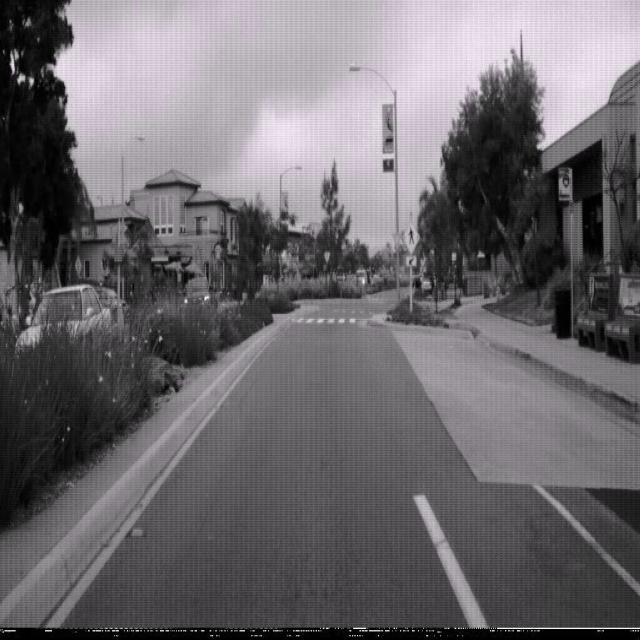pedestrianCrossing: (401, 218, 421, 255)
